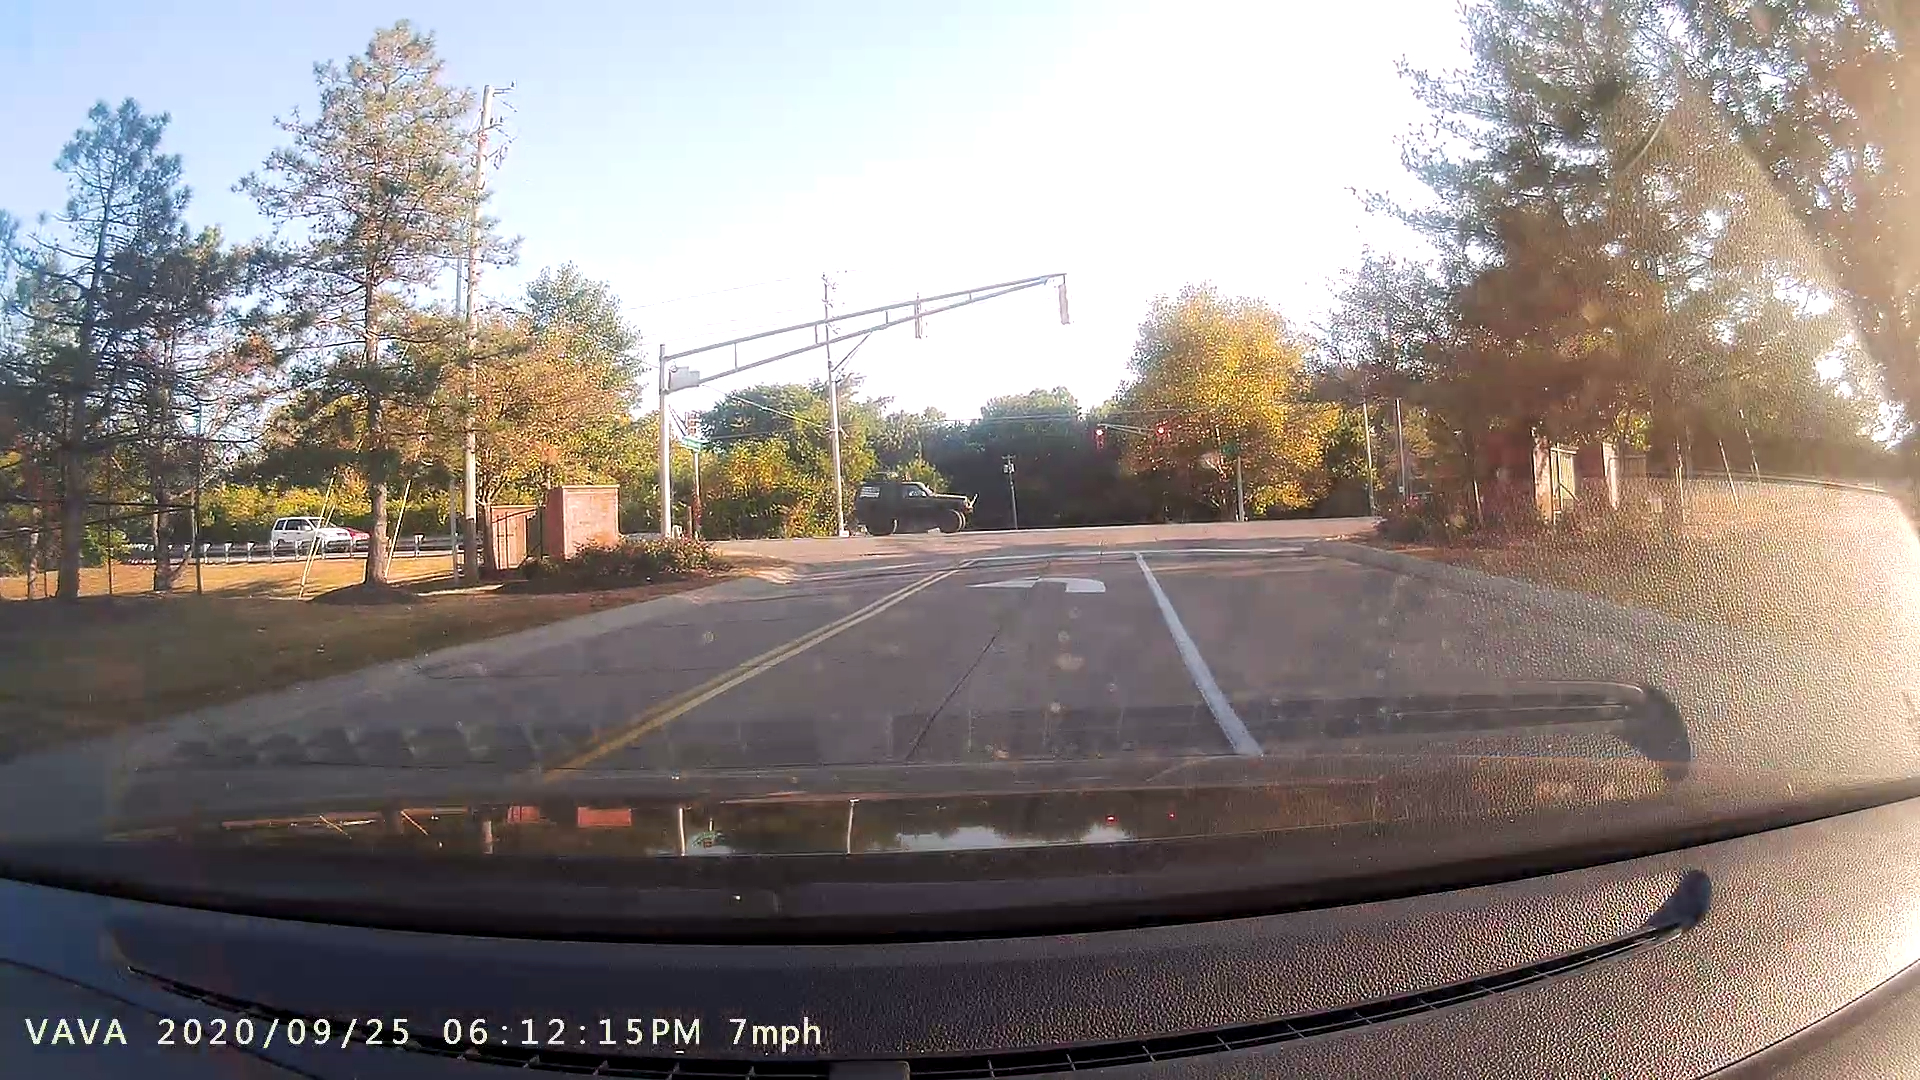left_turn: (964, 572, 1120, 612)
